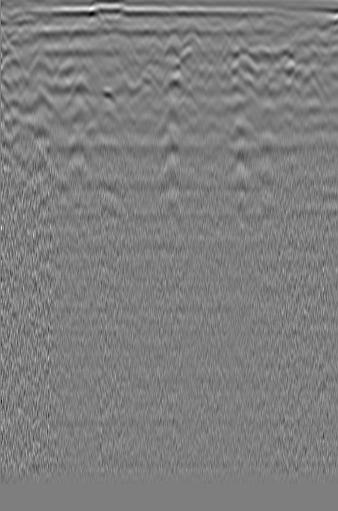가스: (87, 182, 130, 222)
상수: (6, 34, 27, 59)
오수: (300, 47, 324, 70)
우수: (143, 34, 164, 57)
